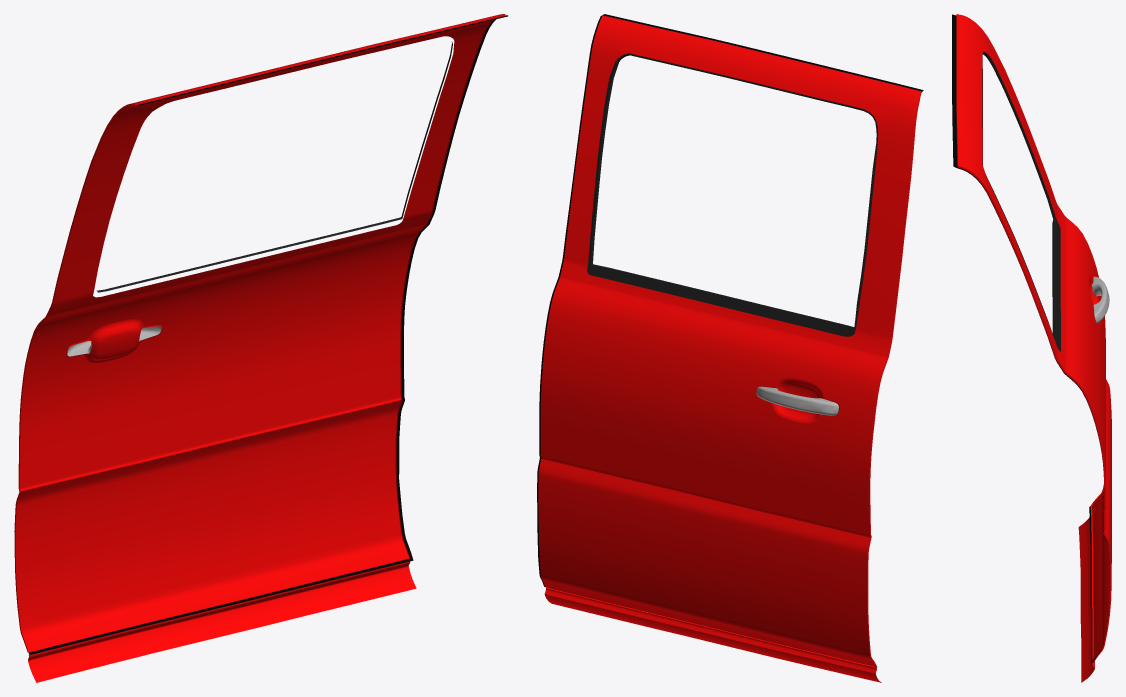
3 views of the same model, side by side, from view 1: azimuth 30°, elevation 25°; view 2: azimuth 150°, elevation 25°; view 3: azimuth 270°, elevation 25° (orthographic). The views are drawn at different scales.
Parts seen in each view (by area): view 1: U805_4A_301B_L_1_DaS_U805_4A_301B_L, U805_4A_301B_L_1_DaS_U805_4A_301B_L_E, U805_4A_301B_L_U805_4A_301B_L_4_D, U805_4A_301B_L_U805_4A_301B_L_3_D; view 2: U805_4A_301B_L_1_DaS_U805_4A_301B_L, U805_4A_301B_L_U805_4A_301B_L_3_D, U805_4A_301B_L_1_DaS_U805_4A_301B_L_E, U805_4A_301B_L_U805_4A_301B_L_4_D, U805_4A_301B_L_U805_4A_301B_L_2_DaS; view 3: U805_4A_301B_L_1_DaS_U805_4A_301B_L, U805_4A_301B_L_U805_4A_301B_L_3_D, U805_4A_301B_L_1_DaS_U805_4A_301B_L_E, U805_4A_301B_L_U805_4A_301B_L_4_D, U805_4A_301B_L_U805_4A_301B_L_2_DaS.
Boxes of the visible parts, left/top/right/bottom form: U805_4A_301B_L_1_DaS_U805_4A_301B_L: left=15, top=14, right=503, bottom=682; U805_4A_301B_L_1_DaS_U805_4A_301B_L_E: left=14, top=14, right=505, bottom=652; U805_4A_301B_L_U805_4A_301B_L_4_D: left=28, top=15, right=507, bottom=655; U805_4A_301B_L_U805_4A_301B_L_3_D: left=96, top=41, right=452, bottom=292; U805_4A_301B_L_1_DaS_U805_4A_301B_L: left=538, top=15, right=921, bottom=682; U805_4A_301B_L_U805_4A_301B_L_3_D: left=587, top=53, right=878, bottom=336; U805_4A_301B_L_1_DaS_U805_4A_301B_L_E: left=541, top=92, right=921, bottom=667; U805_4A_301B_L_U805_4A_301B_L_4_D: left=537, top=14, right=923, bottom=666; U805_4A_301B_L_U805_4A_301B_L_2_DaS: left=756, top=386, right=838, bottom=415; U805_4A_301B_L_1_DaS_U805_4A_301B_L: left=956, top=14, right=1111, bottom=682; U805_4A_301B_L_U805_4A_301B_L_3_D: left=982, top=51, right=1060, bottom=351; U805_4A_301B_L_1_DaS_U805_4A_301B_L_E: left=956, top=15, right=1111, bottom=663; U805_4A_301B_L_U805_4A_301B_L_4_D: left=952, top=14, right=1109, bottom=664; U805_4A_301B_L_U805_4A_301B_L_2_DaS: left=1092, top=276, right=1109, bottom=323.
Size of the model in its own units: 87.13 by 130 by 35.9.
